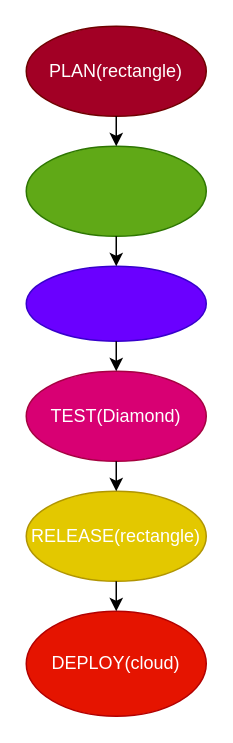
This 233x743 diagram has some shape labels left out. The shapes that lost their labels are listed below. From the top down, each one's centre as x and y in pixels, then its label:
the point at 115,190: DEVELOP(folder)
the point at 115,303: BUILD(gear)
